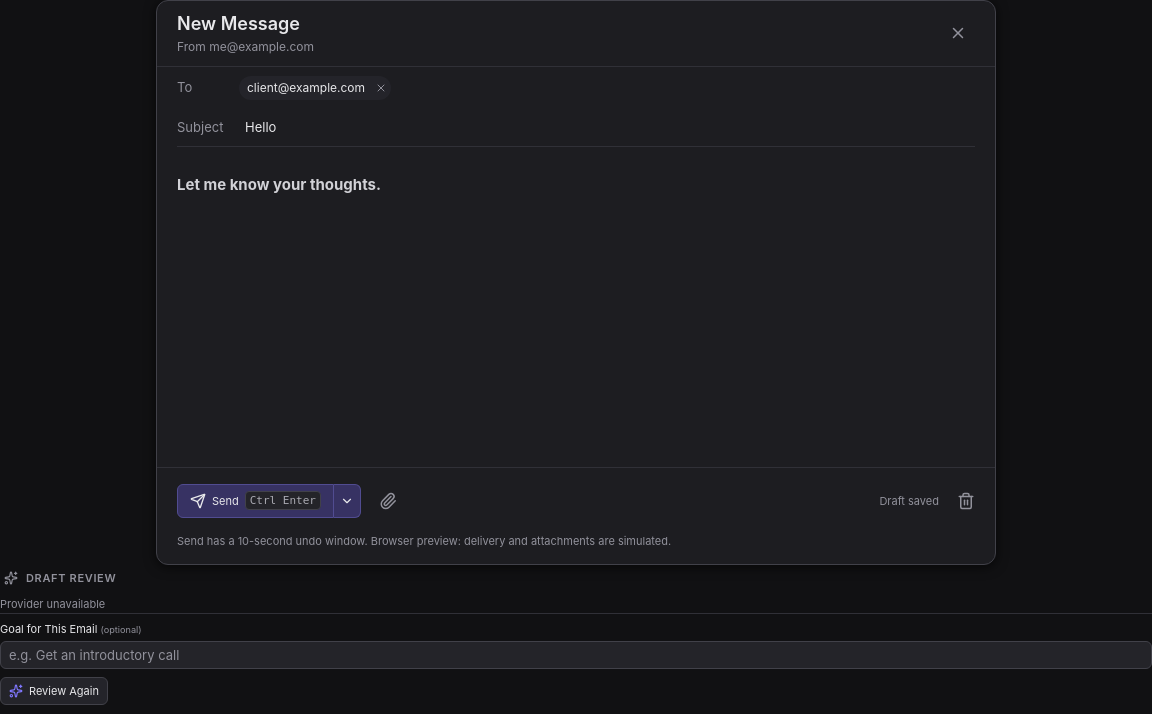
Test: Draft review › preserves the draft on provider failure and allows retry
The image size is (1152, 714).
Check: the message "Provider unavailable" is shown, box x1=0 y1=597 x2=105 y2=611
Check: the text box labelled "Let me know your thoughts." is shown, box x1=177 y1=175 x2=381 y2=194
What coordinates should you click on to do the following:
click the button "Review Again"
I would click on:
 (54, 692)
Its box is x1=0 y1=678 x2=108 y2=706.
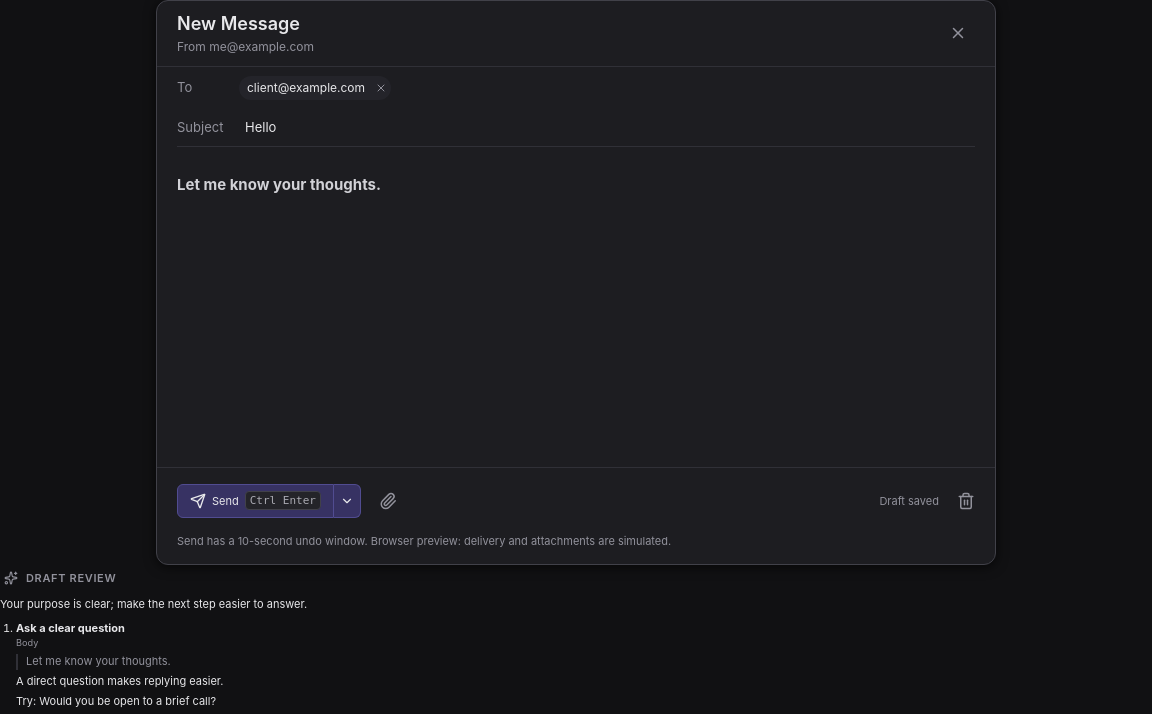
Check: the text "Your purpose is clear; make the next step easier to answer." is shown, box x1=0 y1=597 x2=307 y2=611
